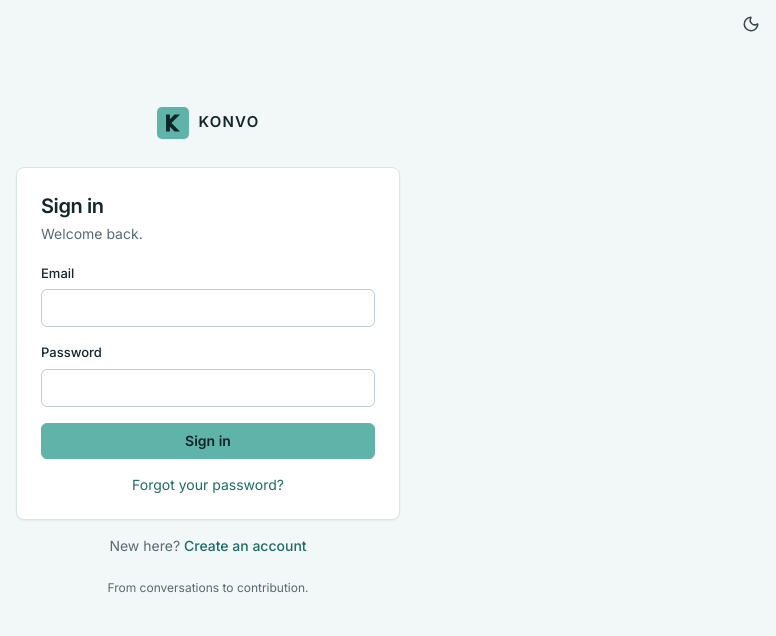
Scenario: LoginPage › shows the server error on bad credentials
The width and height of the screenshot is (776, 636).
In the field labelled "Email": (208, 308) [41, 289, 375, 327], type "ada@example.com"
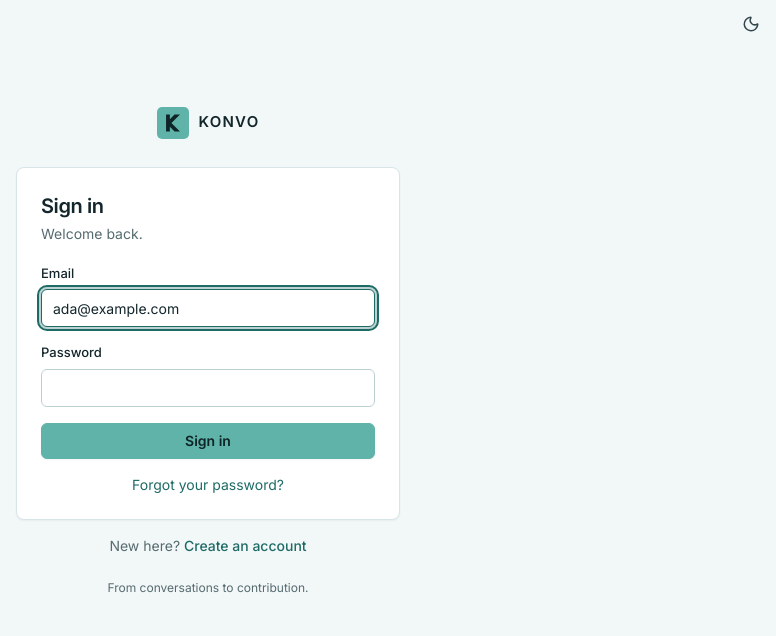
In the password field labelled "Password": (208, 388) [41, 368, 375, 406], type "wrong-password1"
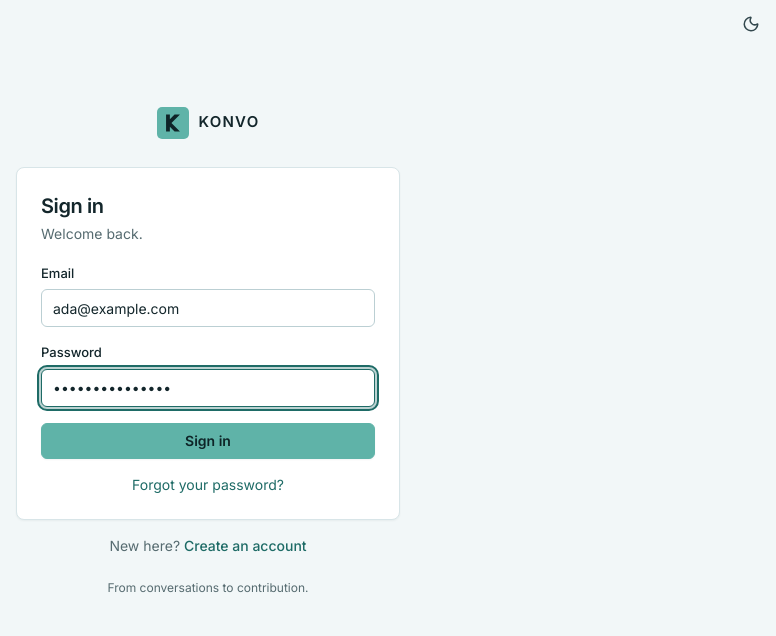
Click the button "Sign in": (208, 440) [41, 422, 375, 458]
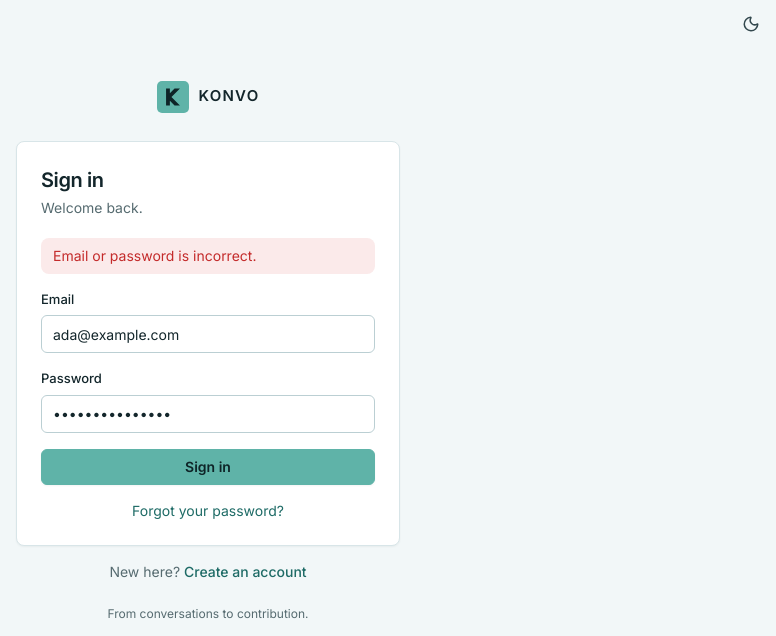
Result: the text "Email or password is incorrect." is shown at [41, 238, 375, 274]
